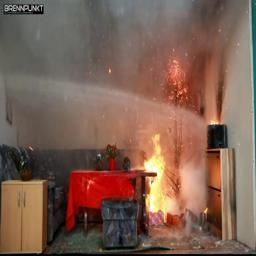fire: (137, 134, 178, 219)
smoke: (80, 12, 210, 122)
